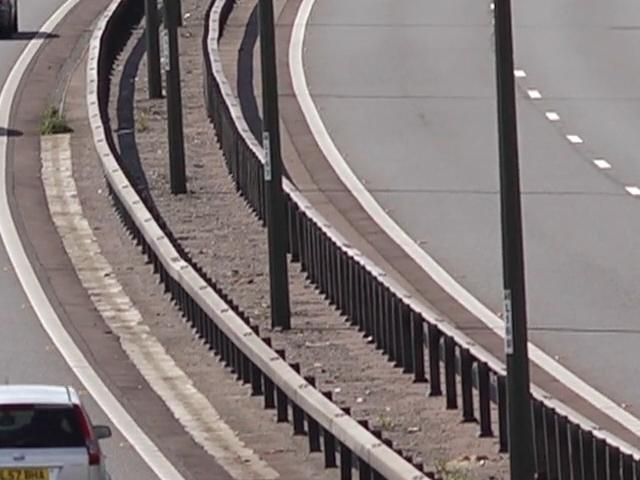car: (0, 391, 120, 480)
